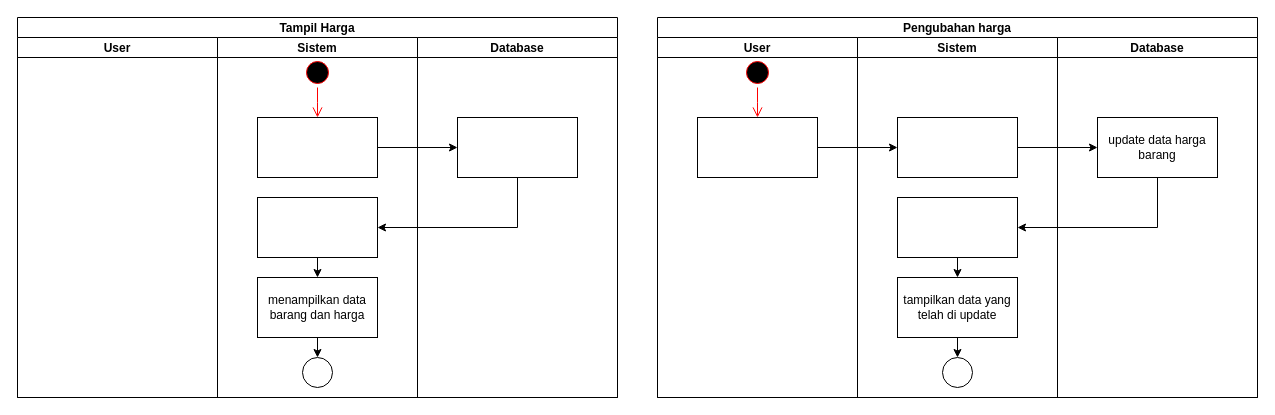
Image size: 1275x415. Some labels were removed from this diagram. Here are the shapes that lost their labels. From the top down, the centre of each, then its label:
At (x=317, y=147): "sistem meminta data brang dan harga barang tersebut kepada database".
At (x=517, y=147): "mengambil data barang dan harga".
At (x=757, y=147): "pengguna memiih barang yang ingin di ubah harganya".
At (x=957, y=147): "sistem memproses permintaan pengguna".
At (x=317, y=227): "menata data yang telah di ambil".
At (x=957, y=227): "Reload halaman".
